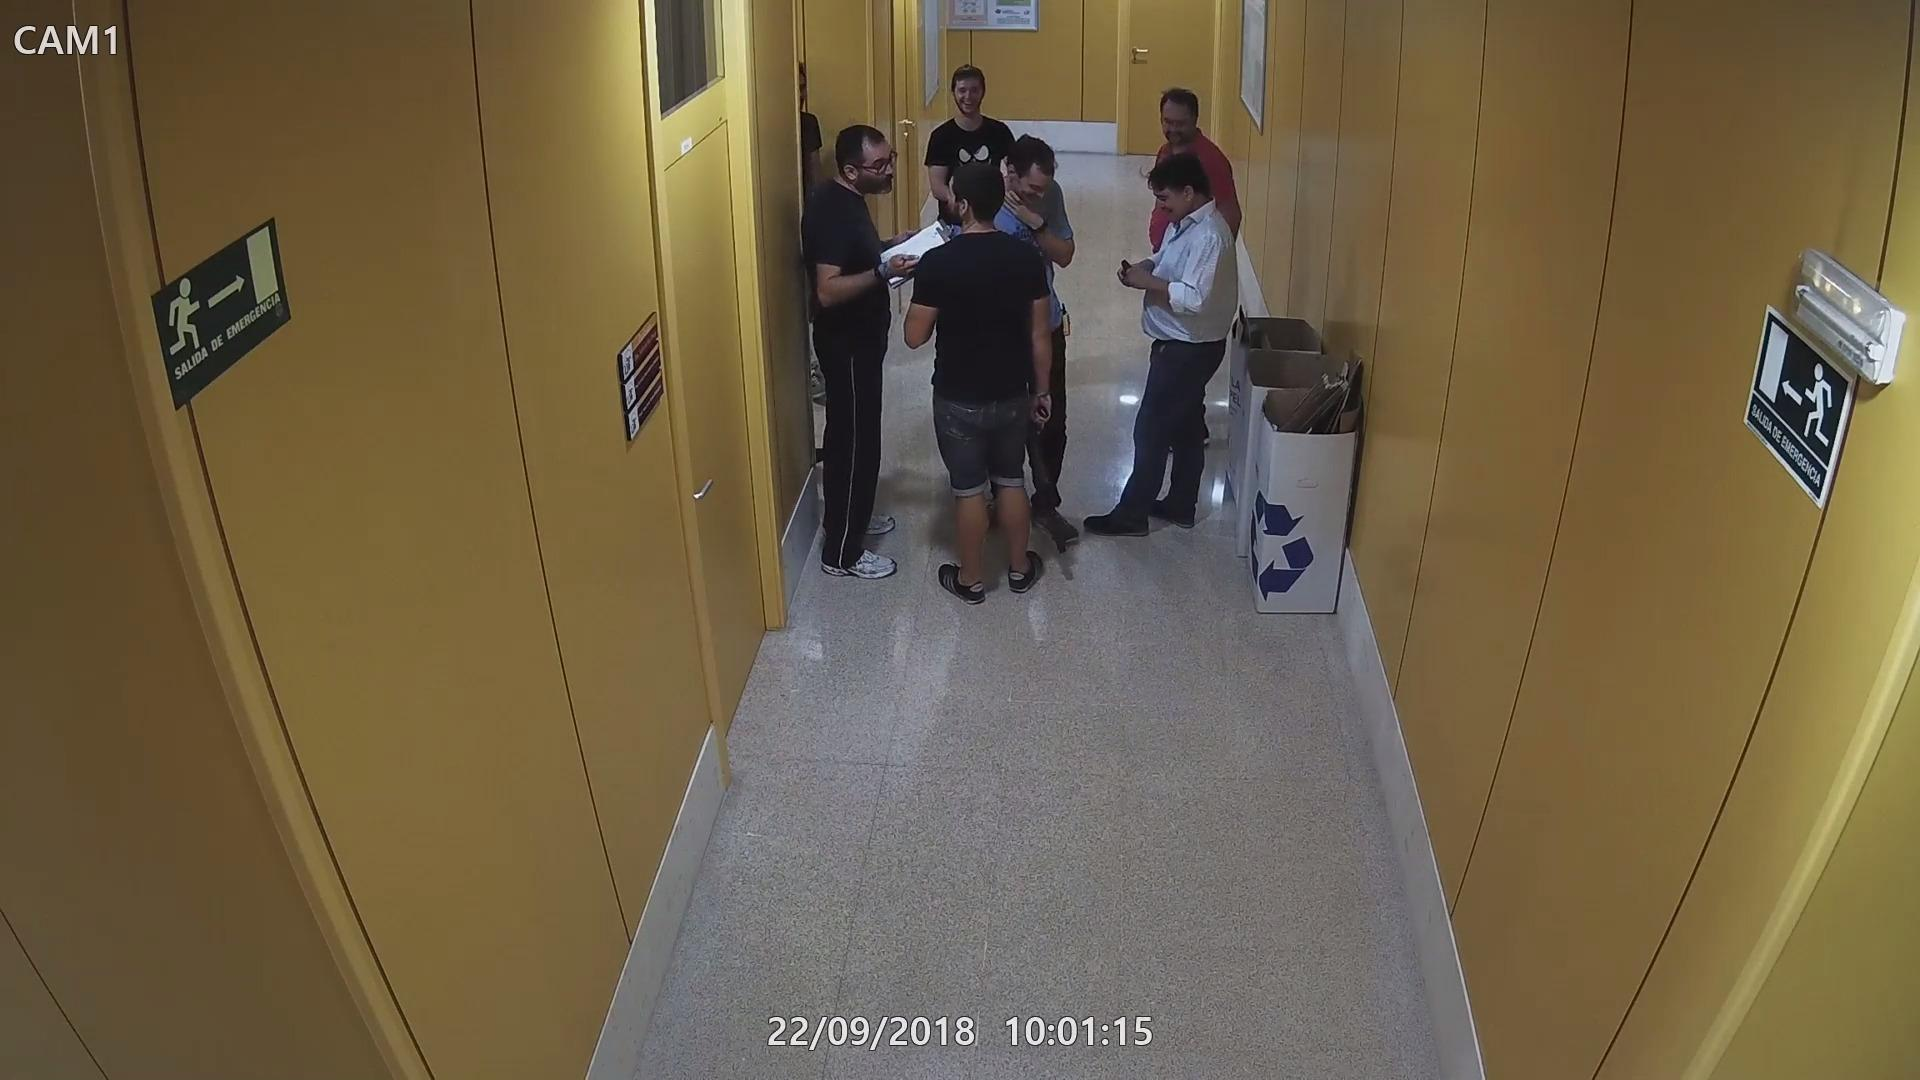Handgun: (1116, 256, 1147, 290)
